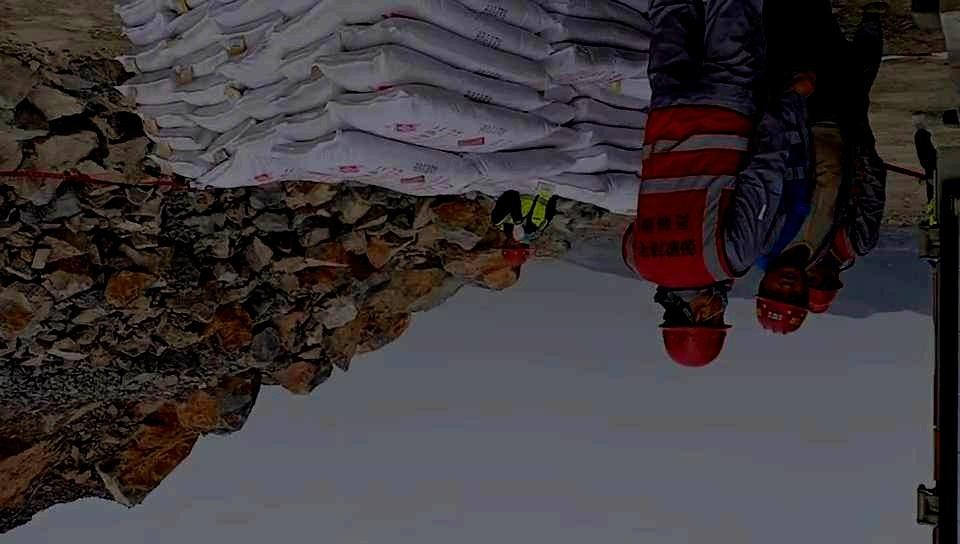helmet: (657, 292, 734, 369), (752, 260, 813, 336), (808, 259, 844, 314), (500, 236, 532, 268)
